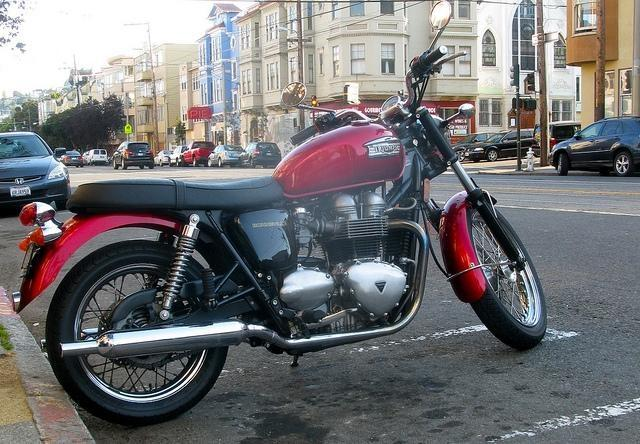car: (0, 129, 71, 216), (548, 115, 640, 177), (466, 129, 534, 161), (530, 121, 582, 159), (451, 131, 497, 162), (112, 140, 154, 170), (239, 141, 281, 168), (208, 144, 245, 168), (167, 144, 188, 168), (84, 148, 109, 166), (59, 150, 84, 168), (152, 150, 172, 168)
motorcycle: (6, 1, 558, 428)
truck: (181, 141, 215, 166)
